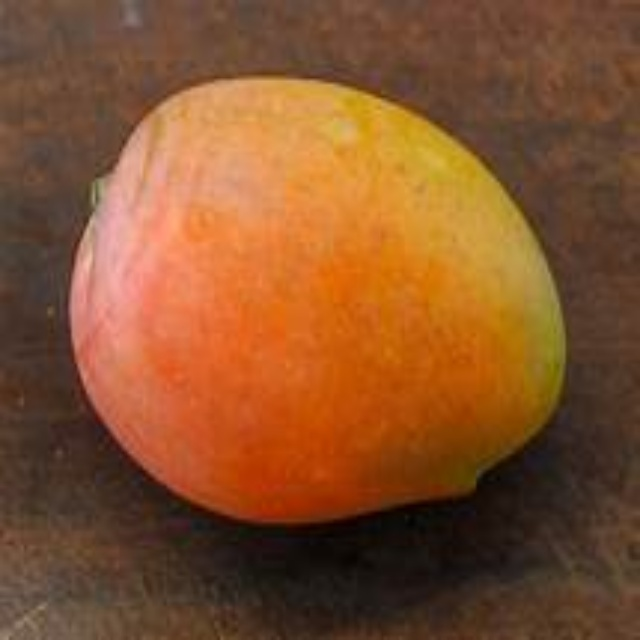mango: (73, 80, 568, 519)
